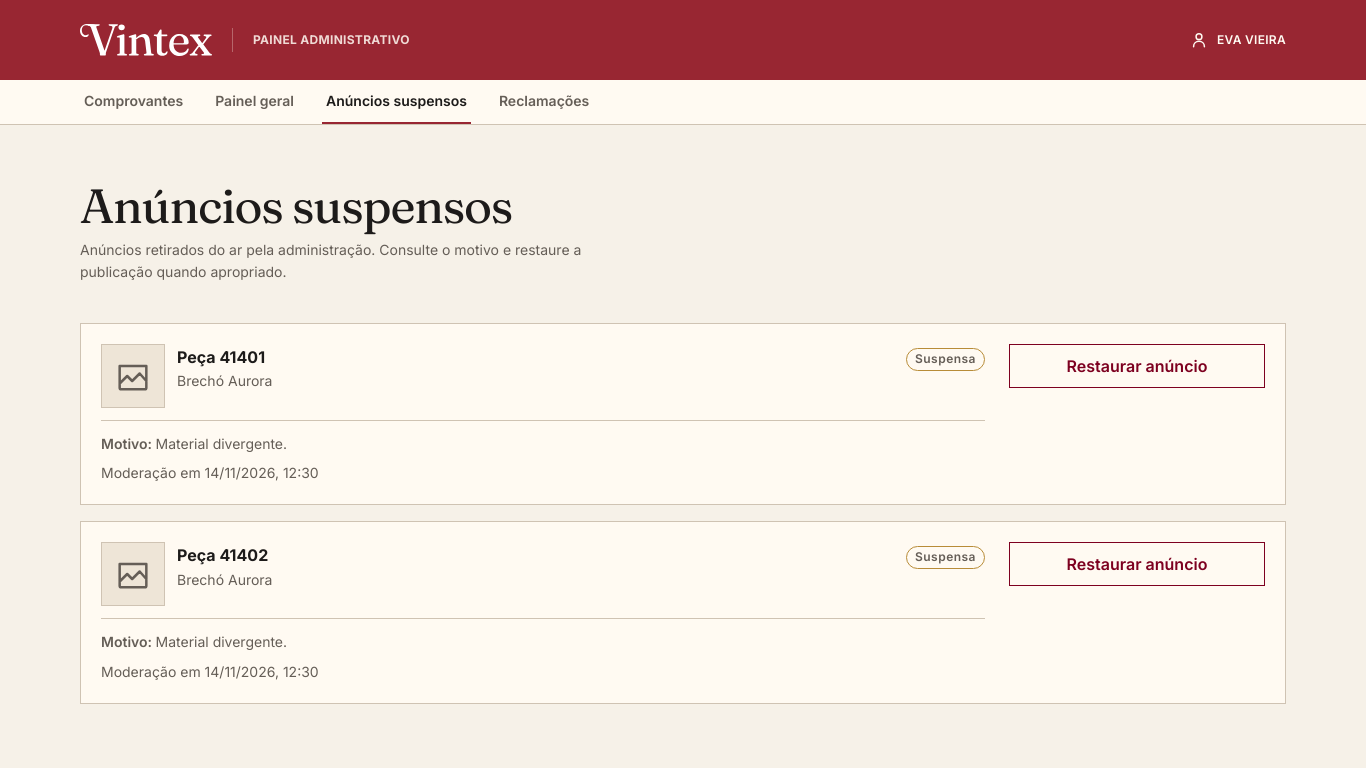
Test case: ModerationQueue — RED #414 › retorno ativo informa volta à vitrine e preserva os demais cartões
The width and height of the screenshot is (1366, 768).
Expected: the heading "Peça 41401" is shown, [177,347,265,367]
Click the button "Restaurar anúncio" in the row of "Peça 41401": (1137, 366) [1009,344,1265,388]
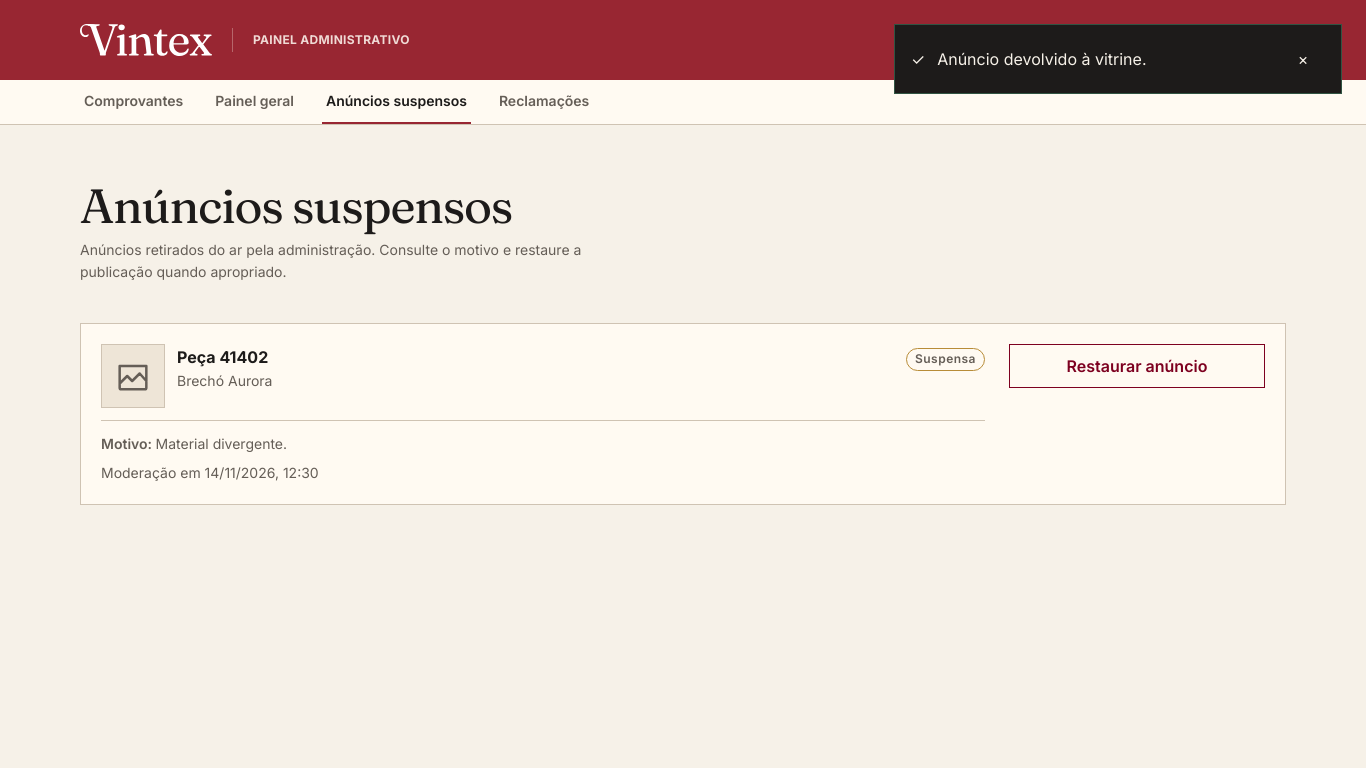
Expected: the heading "Peça 41402" is shown, [177,347,268,367]
Result: the heading "Peça 41401" is gone
